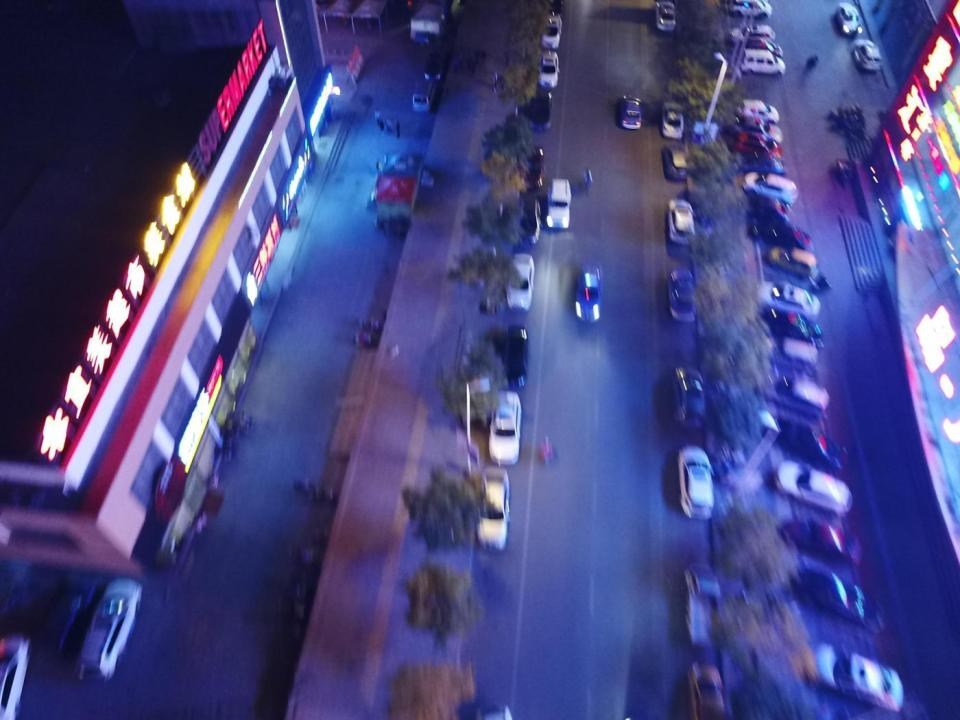car: (75, 578, 141, 680), (802, 644, 905, 709), (787, 564, 884, 631), (774, 460, 854, 516), (768, 418, 846, 470), (776, 516, 861, 560), (46, 572, 90, 655), (476, 467, 511, 552), (684, 563, 721, 643), (677, 444, 714, 520), (0, 632, 32, 718), (487, 390, 522, 465), (754, 280, 819, 320), (759, 309, 822, 346), (689, 661, 726, 719), (674, 364, 706, 429), (572, 263, 601, 320), (767, 247, 817, 280), (500, 325, 526, 387), (749, 223, 810, 249), (506, 252, 533, 310), (670, 268, 698, 322), (513, 197, 540, 247), (732, 98, 779, 125), (737, 156, 785, 181), (518, 146, 545, 190), (734, 117, 780, 141), (733, 133, 781, 156), (669, 199, 694, 243), (746, 199, 788, 224), (526, 90, 553, 127), (662, 143, 687, 181), (739, 37, 782, 58), (661, 101, 684, 139), (854, 39, 880, 71), (620, 93, 641, 130), (836, 3, 860, 34), (539, 50, 559, 87), (539, 14, 560, 48), (656, 1, 676, 31), (424, 50, 440, 79), (544, 1, 562, 14)
van: (758, 377, 828, 414), (757, 336, 818, 374), (738, 172, 798, 207), (740, 49, 785, 78), (547, 178, 570, 228), (729, 24, 775, 43), (729, 0, 769, 19), (412, 79, 433, 110), (734, 0, 772, 14)
